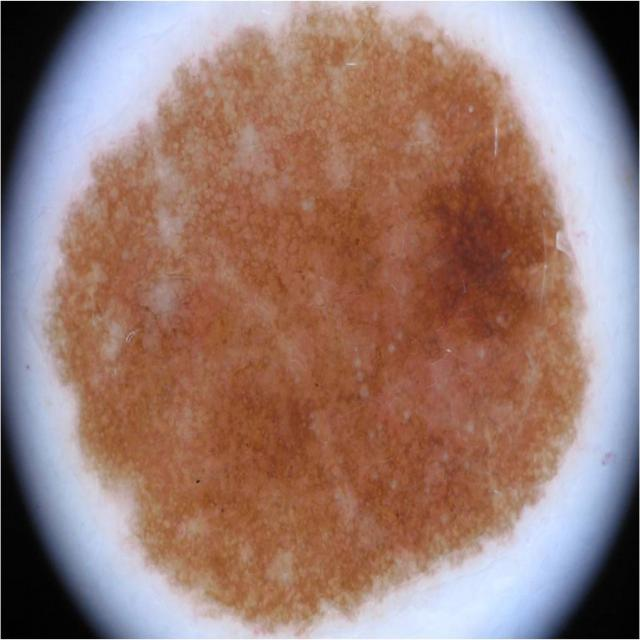Benign: (47, 4, 592, 636)
